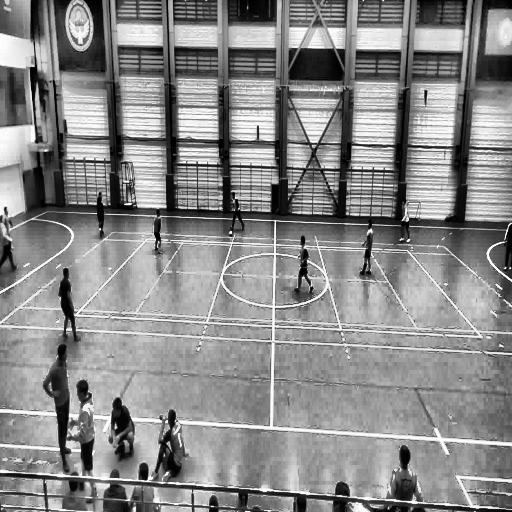player: (42, 343, 71, 470), (108, 396, 134, 462), (59, 268, 80, 342), (293, 234, 314, 296), (0, 209, 18, 273), (359, 219, 374, 276), (229, 190, 245, 232), (502, 215, 512, 272), (400, 198, 412, 242), (154, 208, 163, 255), (97, 192, 105, 238)
